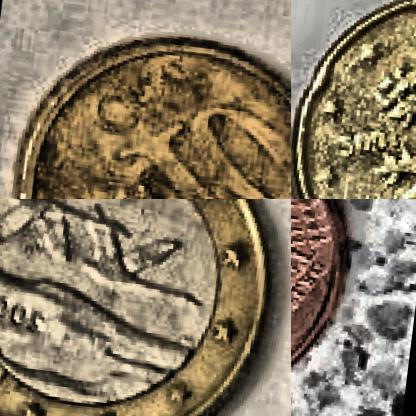coin: (0, 199, 290, 415), (1, 14, 290, 198), (291, 0, 415, 198), (291, 199, 363, 414)
